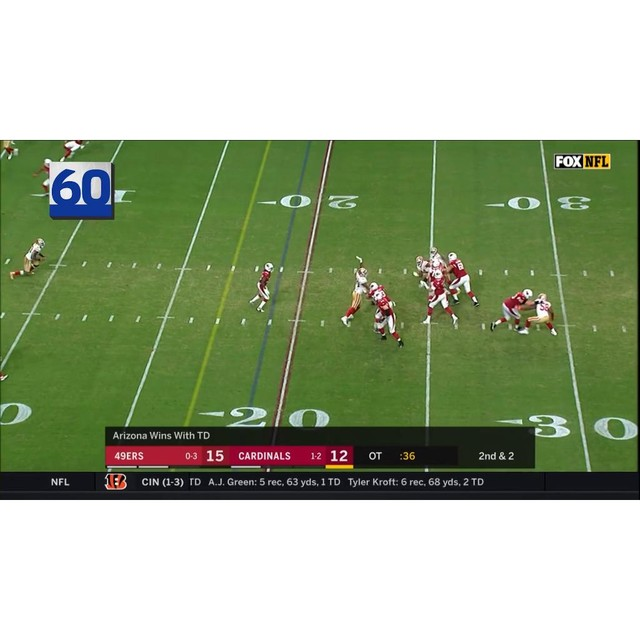american-football-player: (422, 273, 459, 327), (371, 290, 404, 348), (340, 259, 368, 327), (490, 288, 532, 333), (446, 252, 479, 307), (9, 238, 46, 280), (522, 293, 557, 336), (249, 263, 274, 313), (32, 157, 54, 198), (413, 255, 433, 289), (59, 140, 88, 161), (428, 246, 447, 269)
